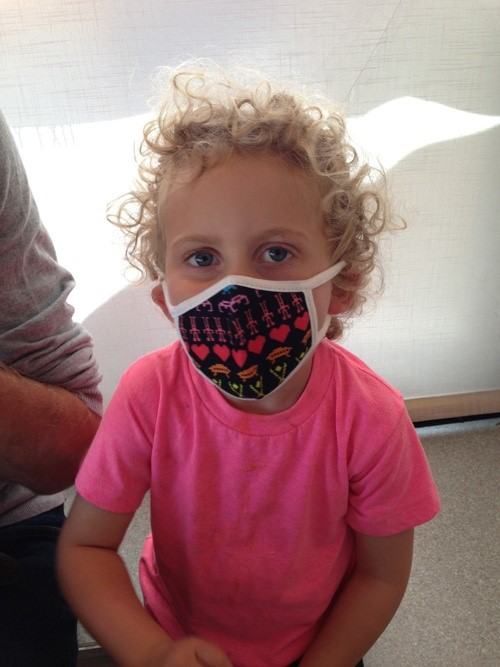face_with_mask: (141, 128, 368, 422)
